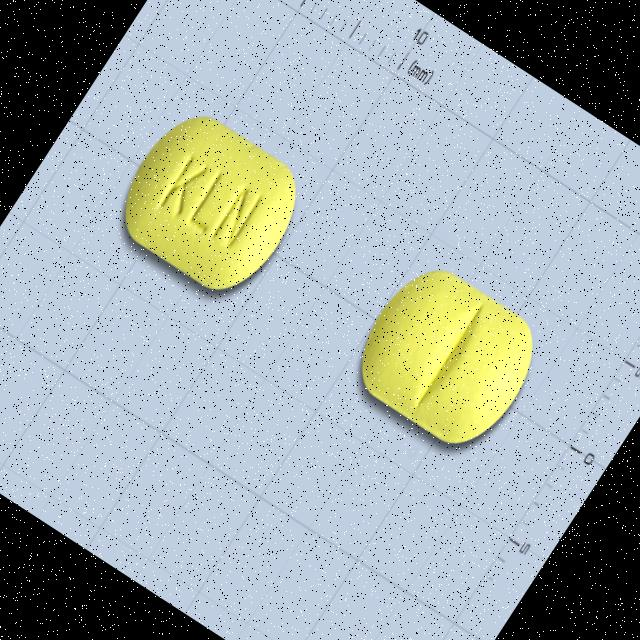Clarith: (96, 94, 320, 314), (338, 249, 556, 465)
